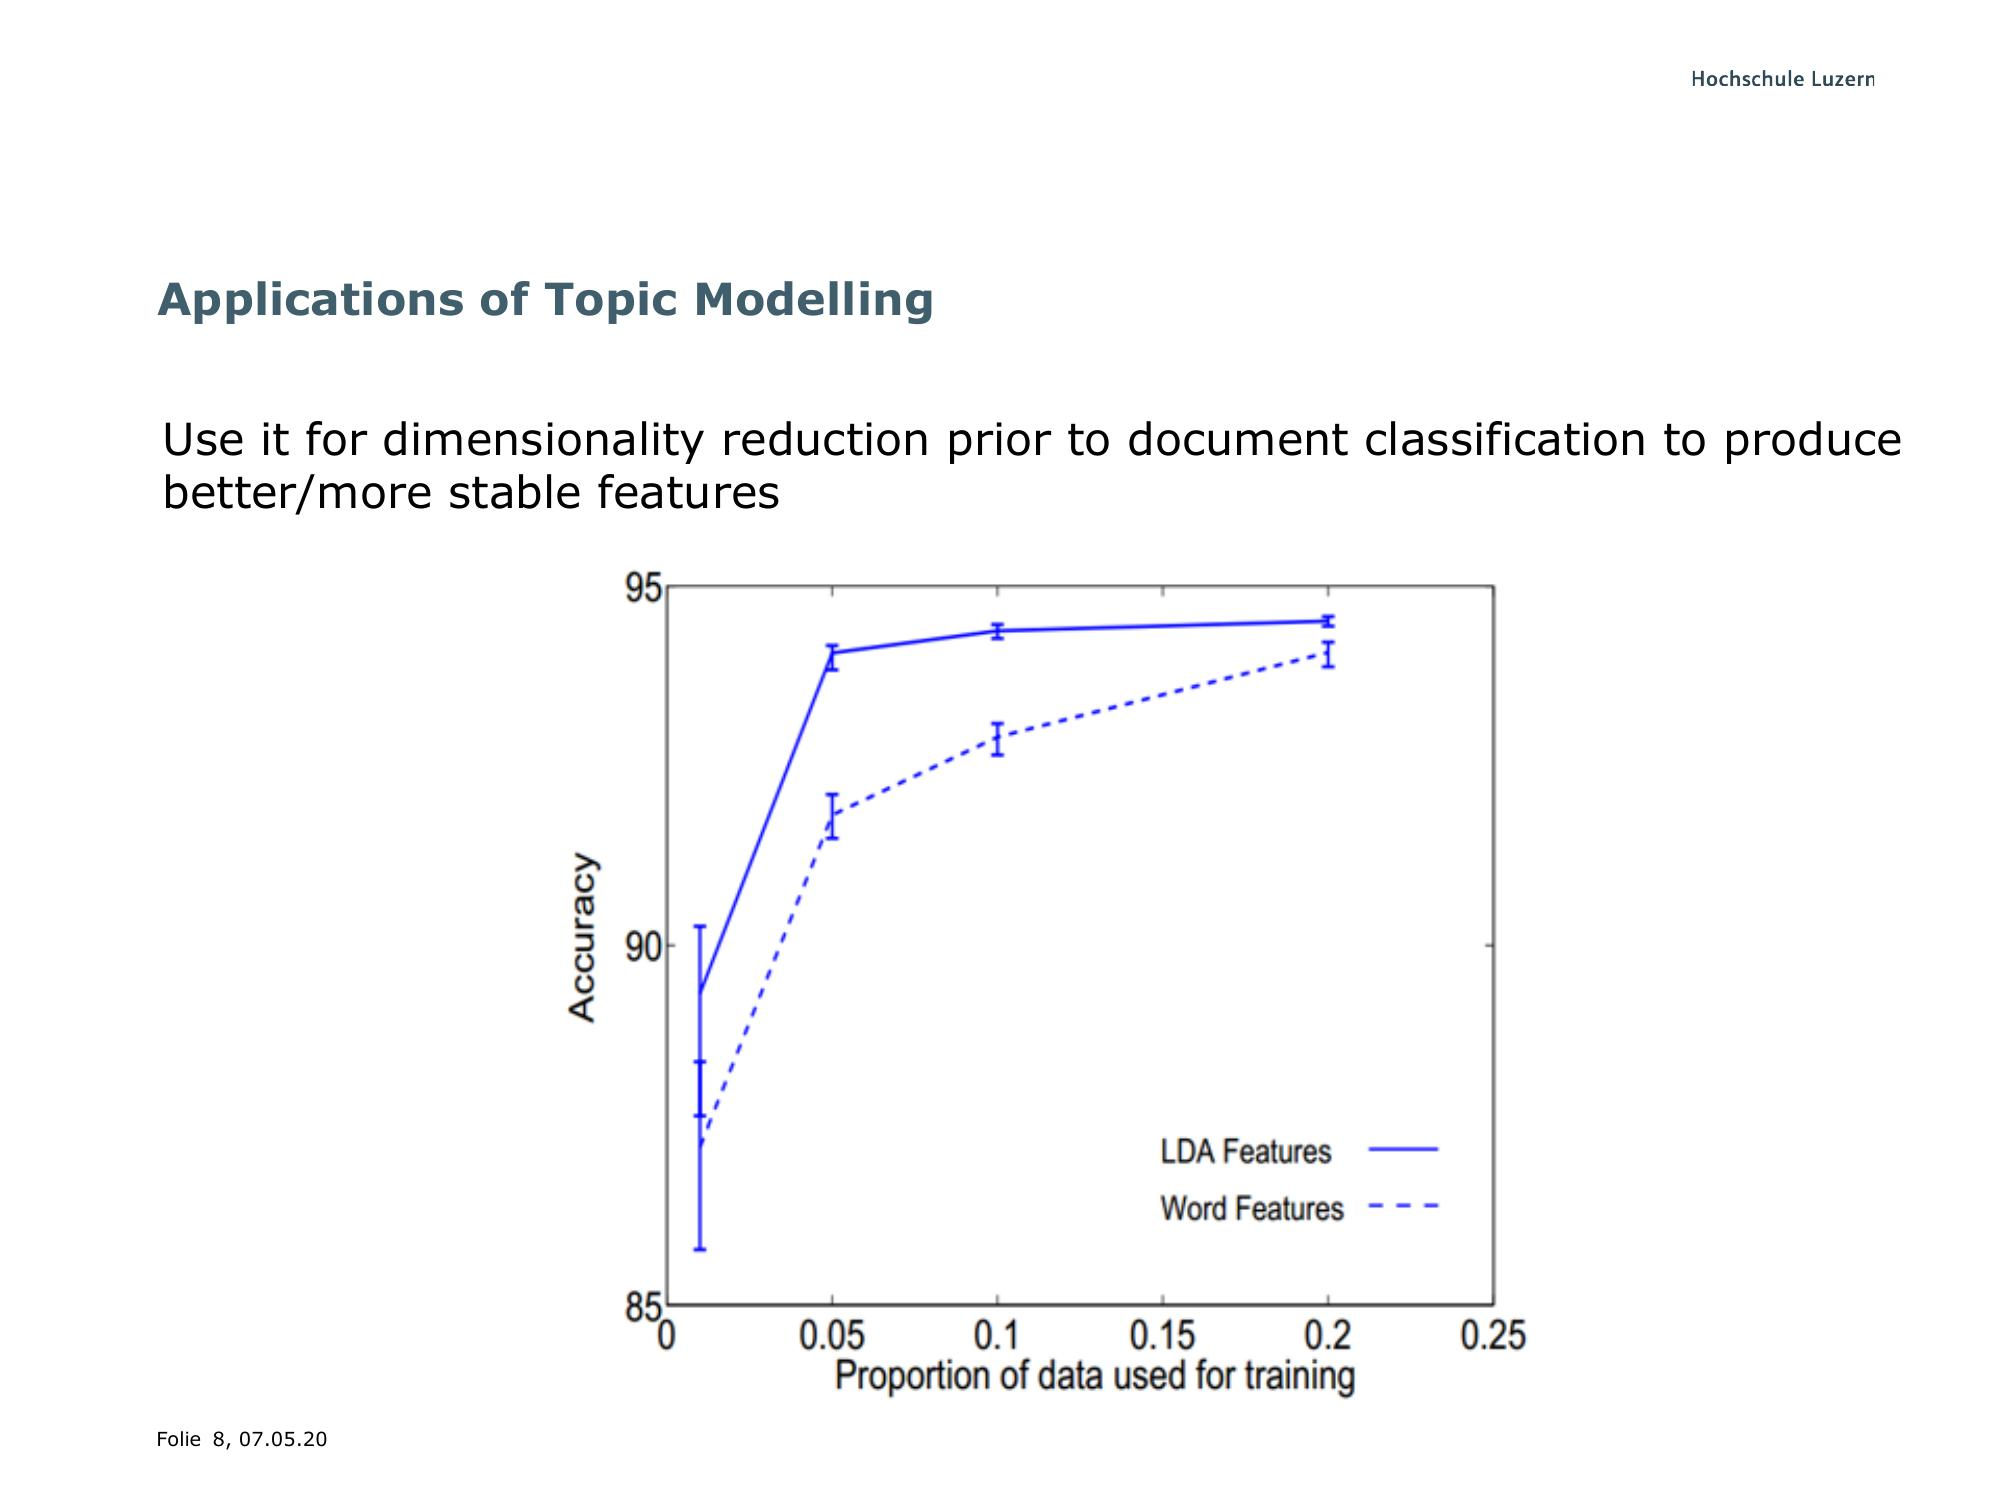Title: (148, 268, 935, 329)
